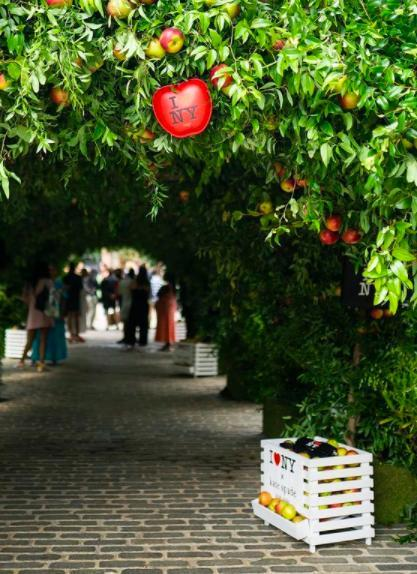apple: (159, 28, 183, 53)
